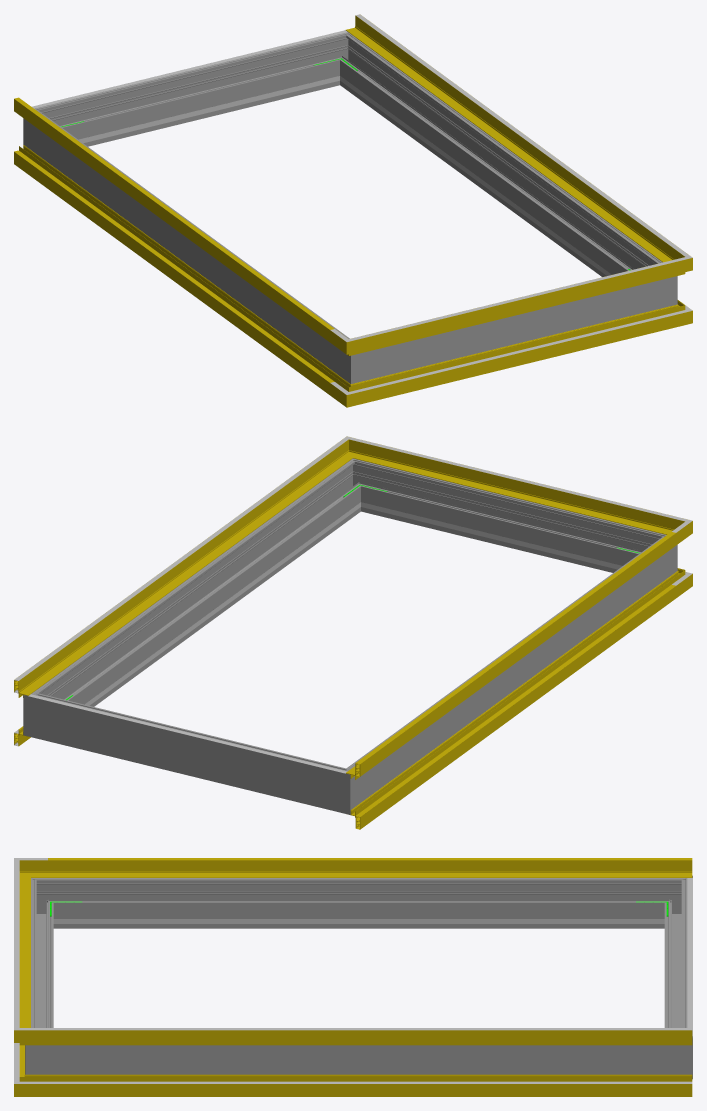
The picture shows the model from 3 angles, top to bottom: view 1: azimuth 30°, elevation 25°; view 2: azimuth 150°, elevation 25°; view 3: azimuth 270°, elevation 25°; orthographic projection.
Visible parts, largest first — view 1: 3DGeom-297, 3DGeom-276, 3DGeom-268, 3DGeom-298, 3DGeom-85, 3DGeom-58, 3DGeom-90, 3DGeom-56, 3DGeom-50, 3DGeom-71, 3DGeom-105, 3DGeom-64 (+12 smaller); view 2: 3DGeom-297, 3DGeom-298, 3DGeom-276, 3DGeom-268, 3DGeom-85, 3DGeom-58, 3DGeom-56, 3DGeom-50, 3DGeom-278, 3DGeom-64, 3DGeom-105, 3DGeom-71 (+8 smaller); view 3: 3DGeom-268, 3DGeom-297, 3DGeom-97, 3DGeom-50, 3DGeom-58, 3DGeom-276, 3DGeom-232, 3DGeom-298, 3DGeom-64, 3DGeom-71, 3DGeom-98, 3DGeom-56 (+9 smaller).
Part boxes in pixels (left/top/right/bottom): 3DGeom-297: left=343, top=42, right=655, bottom=276; 3DGeom-276: left=55, top=38, right=335, bottom=146; 3DGeom-268: left=40, top=118, right=343, bottom=371; 3DGeom-298: left=379, top=283, right=648, bottom=376; 3DGeom-85: left=14, top=145, right=339, bottom=395; 3DGeom-58: left=346, top=15, right=671, bottom=261; 3DGeom-90: left=370, top=309, right=663, bottom=400; 3DGeom-56: left=373, top=265, right=663, bottom=350; 3DGeom-50: left=14, top=99, right=329, bottom=342; 3DGeom-71: left=14, top=97, right=334, bottom=329; 3DGeom-105: left=14, top=150, right=334, bottom=382; 3DGeom-64: left=356, top=14, right=675, bottom=246; 3DGeom-297: left=44, top=468, right=358, bottom=706; 3DGeom-298: left=366, top=464, right=646, bottom=572; 3DGeom-276: left=52, top=698, right=326, bottom=807; 3DGeom-268: left=358, top=545, right=661, bottom=797; 3DGeom-85: left=350, top=579, right=676, bottom=829; 3DGeom-58: left=14, top=450, right=344, bottom=697; 3DGeom-56: left=367, top=445, right=661, bottom=532; 3DGeom-50: left=346, top=532, right=676, bottom=779; 3DGeom-278: left=321, top=760, right=366, bottom=814; 3DGeom-64: left=14, top=448, right=334, bottom=680; 3DGeom-105: left=356, top=584, right=675, bottom=817; 3DGeom-71: left=356, top=532, right=675, bottom=764; 3DGeom-268: left=59, top=878, right=658, bottom=928; 3DGeom-297: left=59, top=1045, right=658, bottom=1074; 3DGeom-97: left=48, top=1074, right=692, bottom=1096; 3DGeom-50: left=48, top=860, right=692, bottom=877; 3DGeom-58: left=48, top=1030, right=692, bottom=1045; 3DGeom-276: left=664, top=890, right=687, bottom=1027; 3DGeom-232: left=86, top=919, right=631, bottom=923; 3DGeom-298: left=31, top=890, right=53, bottom=1027; 3DGeom-64: left=48, top=1028, right=692, bottom=1030; 3DGeom-71: left=48, top=858, right=692, bottom=860; 3DGeom-98: left=48, top=1081, right=692, bottom=1083; 3DGeom-56: left=19, top=883, right=30, bottom=1027.
Bounding box in the file's own units: 1.83 × 0.3303 × 3.05.
